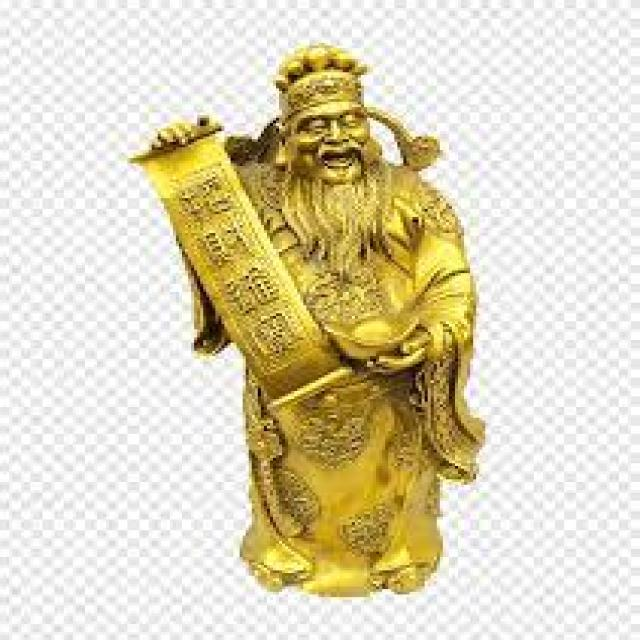Cai shen: (186, 42, 472, 488)
